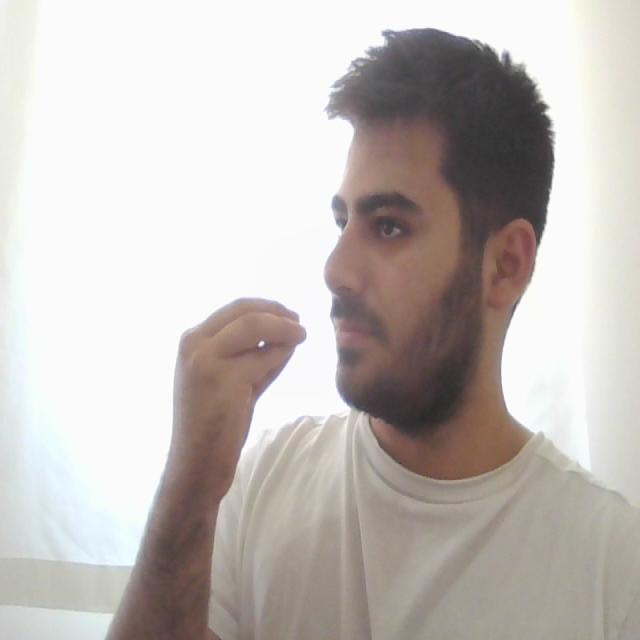Yemek: (163, 292, 390, 411)
